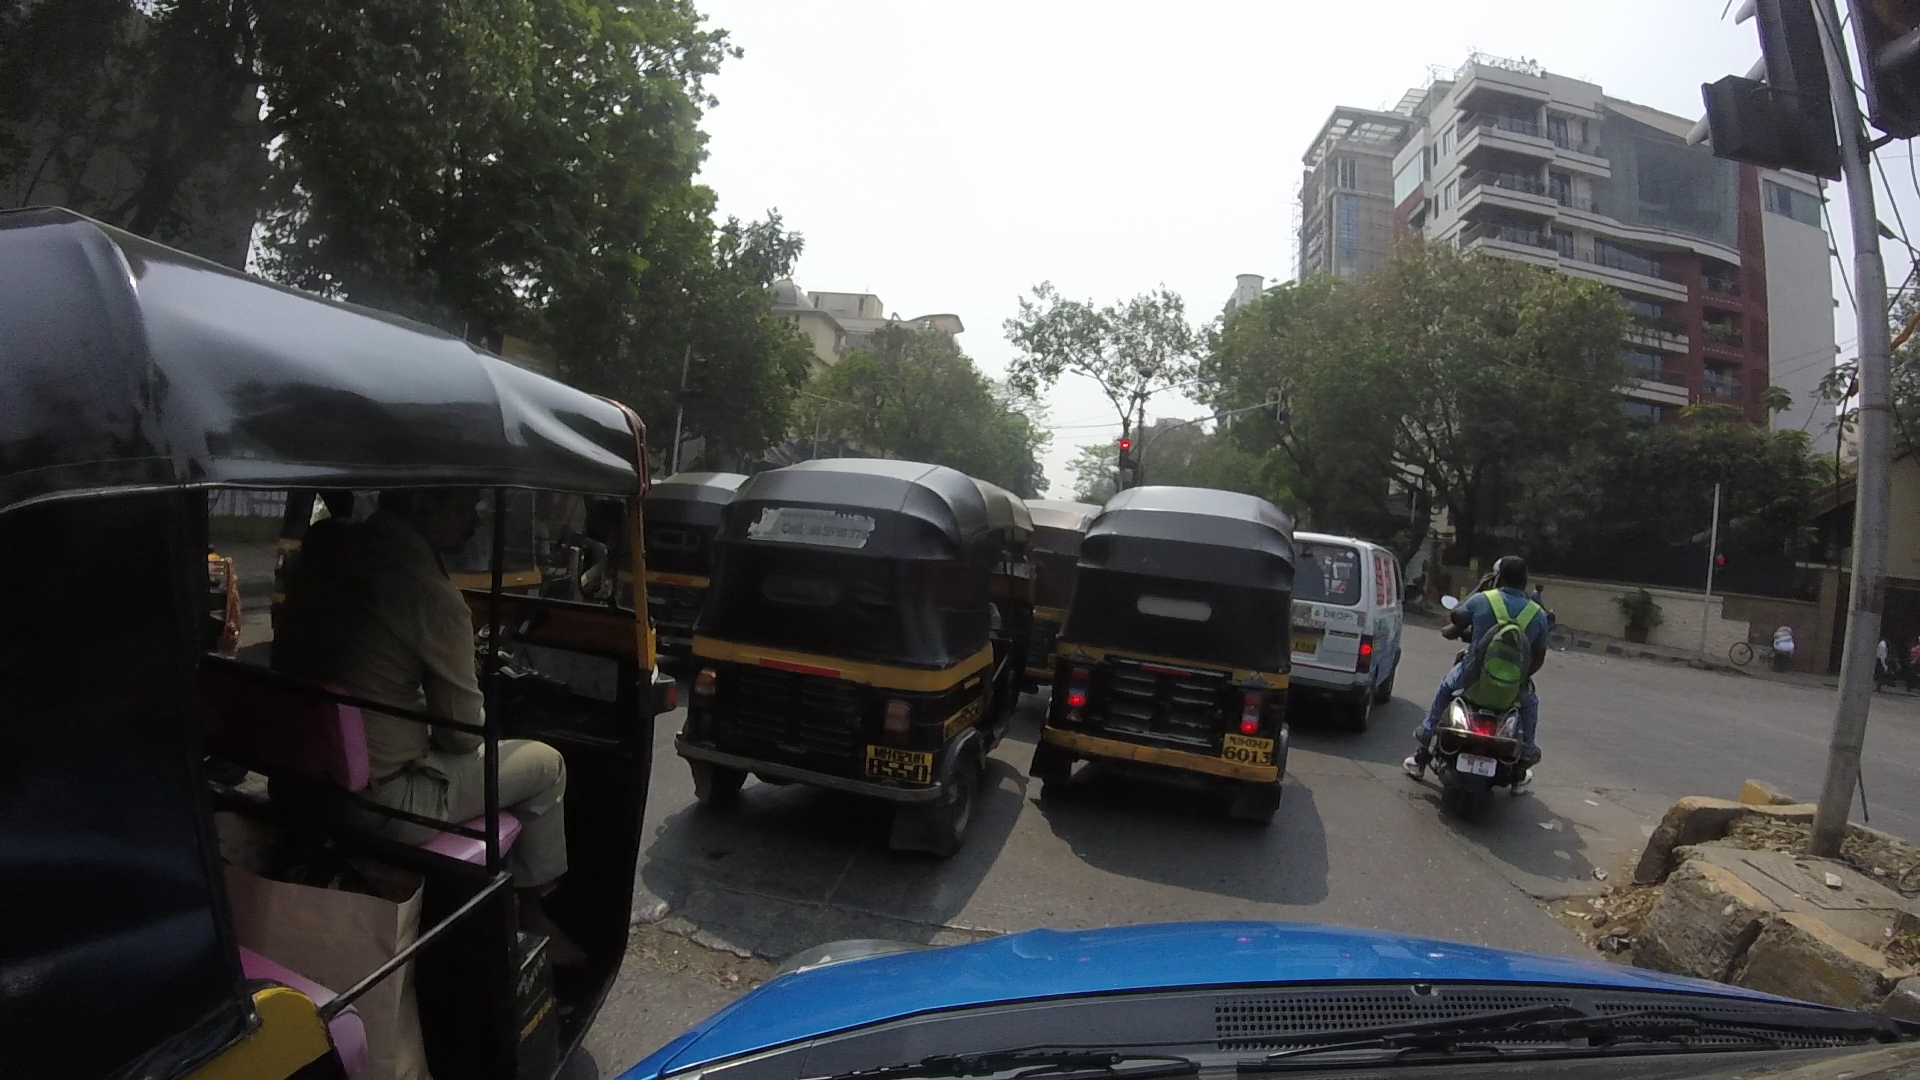bike/scooter: (1436, 520, 1568, 825)
car: (1295, 506, 1410, 713)
rickshaw: (4, 198, 626, 1080), (712, 458, 1018, 831), (1058, 465, 1298, 825), (642, 429, 760, 704)
